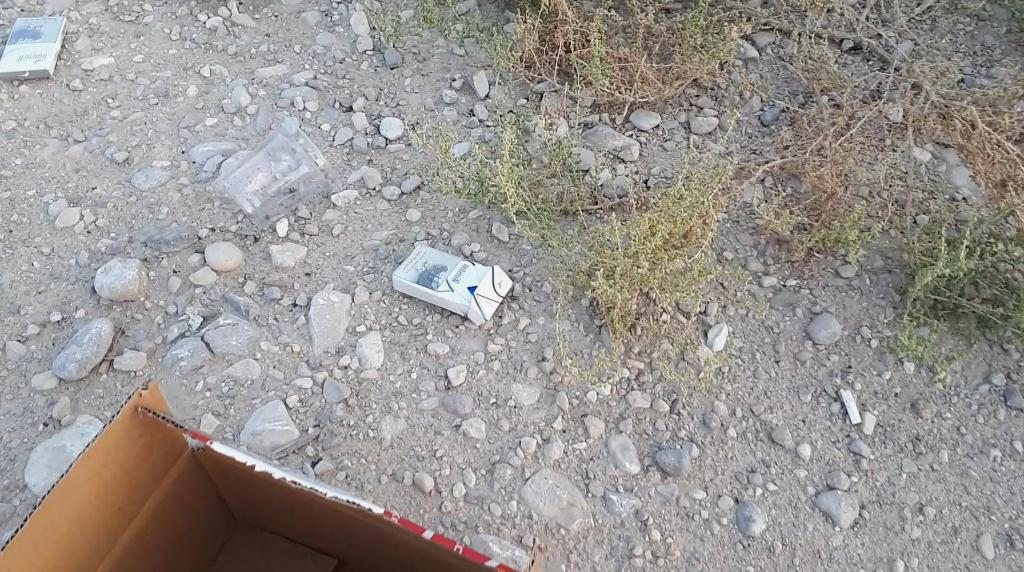garbage: (381, 222, 514, 328), (0, 7, 79, 91)
